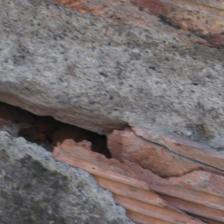Crack: (1, 40, 130, 124)
